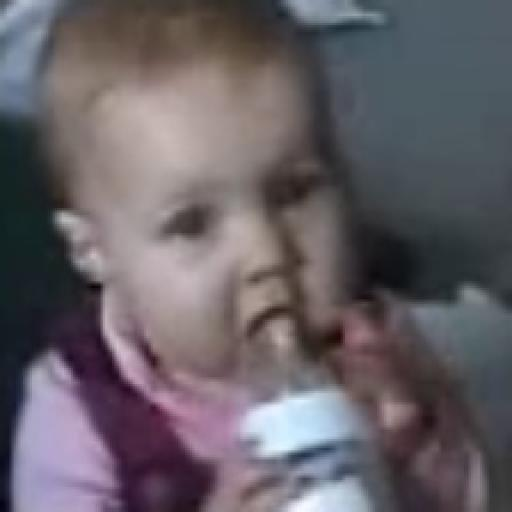Autism: (62, 30, 354, 404)
